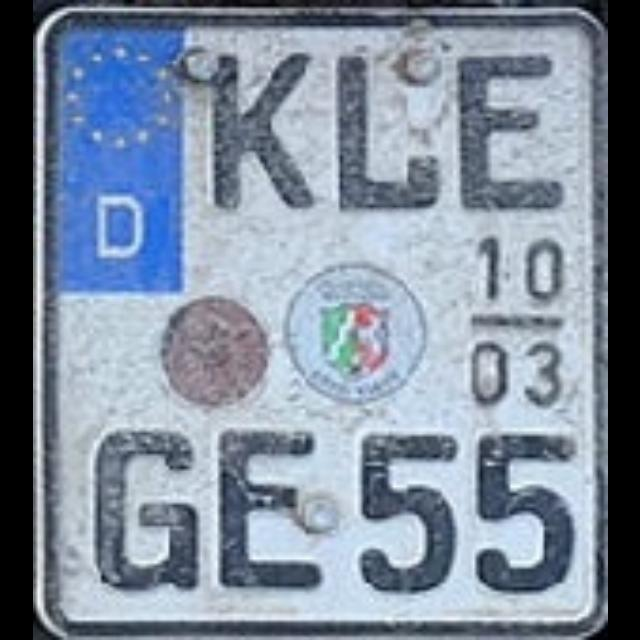license-plates: (35, 5, 606, 640)
